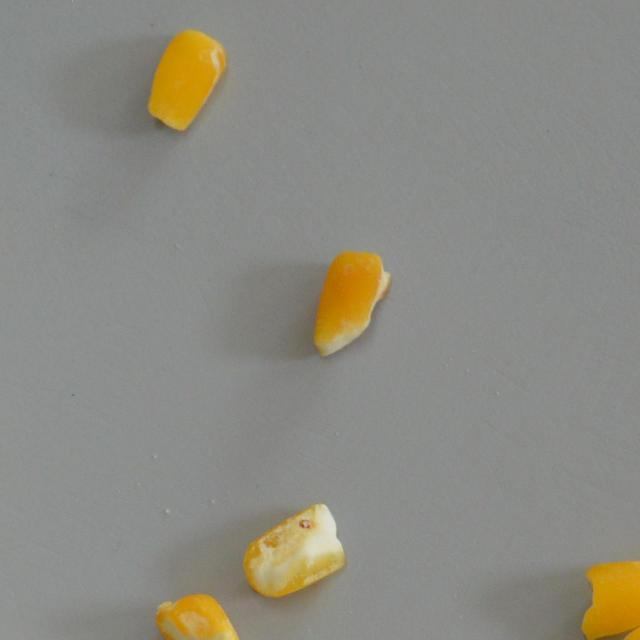dañado: (241, 502, 344, 598), (154, 592, 244, 640)
estandar: (146, 28, 228, 132), (314, 250, 394, 356)
pelicula: (578, 557, 640, 640)
